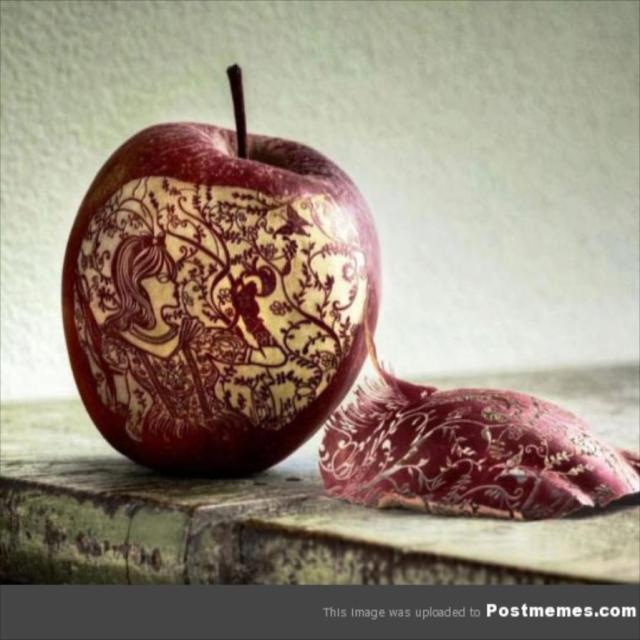Healty Apple: (57, 55, 385, 476)
